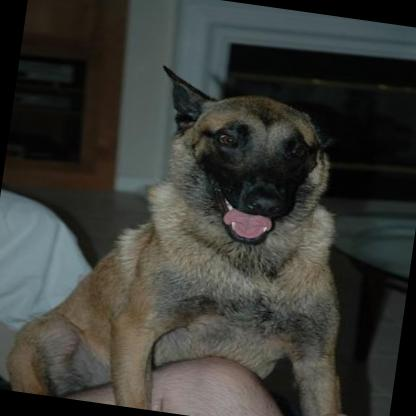malinois: (0, 44, 386, 416)
